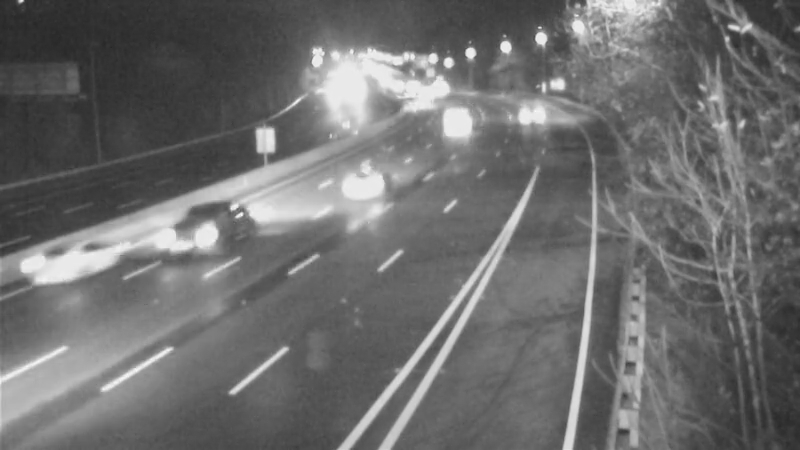vehicle: (328, 145, 408, 225), (157, 199, 237, 279), (14, 225, 94, 305), (402, 68, 452, 118), (395, 78, 445, 128), (430, 98, 480, 148), (504, 87, 554, 137)
